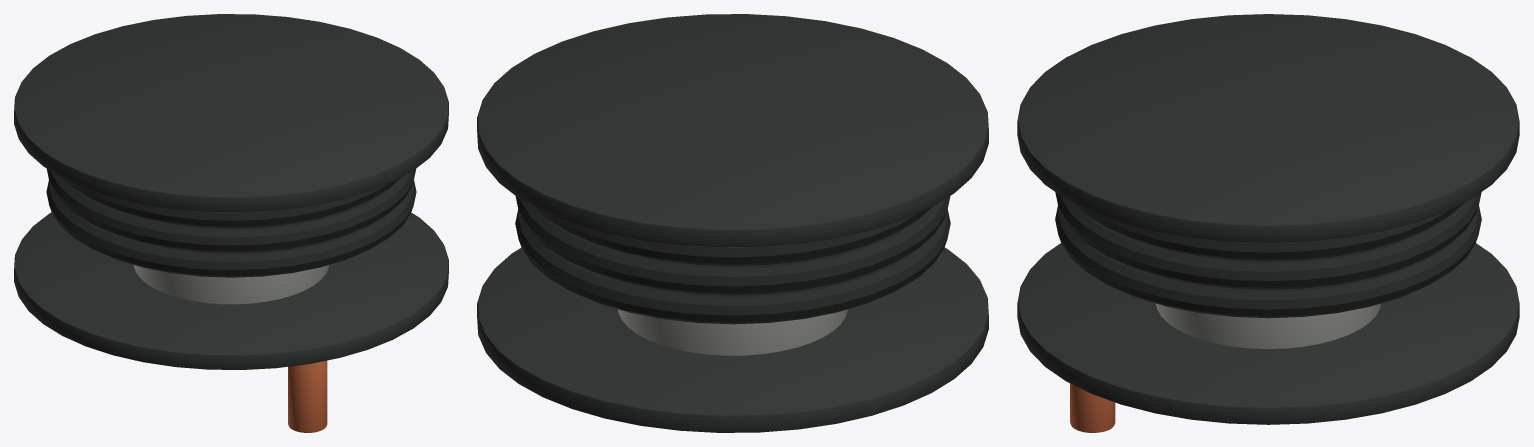
The model's file is pressure_washer_hose_reel.glb.
3 renders of one model, left to right at view 1: azimuth 30°, elevation 25°; view 2: azimuth 150°, elevation 25°; view 3: azimuth 270°, elevation 25°, orthographic. The views are drawn at different scales.
Visible parts, largest first — view 1: pressure_washer_hose_reel; view 2: pressure_washer_hose_reel; view 3: pressure_washer_hose_reel.
Boxes of the visible parts, left/top/right/bottom form: pressure_washer_hose_reel: left=14, top=14, right=448, bottom=432; pressure_washer_hose_reel: left=477, top=14, right=988, bottom=432; pressure_washer_hose_reel: left=1017, top=14, right=1519, bottom=432.
Bounding box in the file's own units: 0.2 × 0.134 × 0.2.
